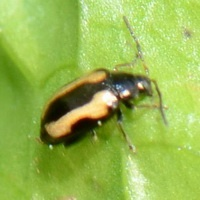insect: (40, 16, 167, 151)
